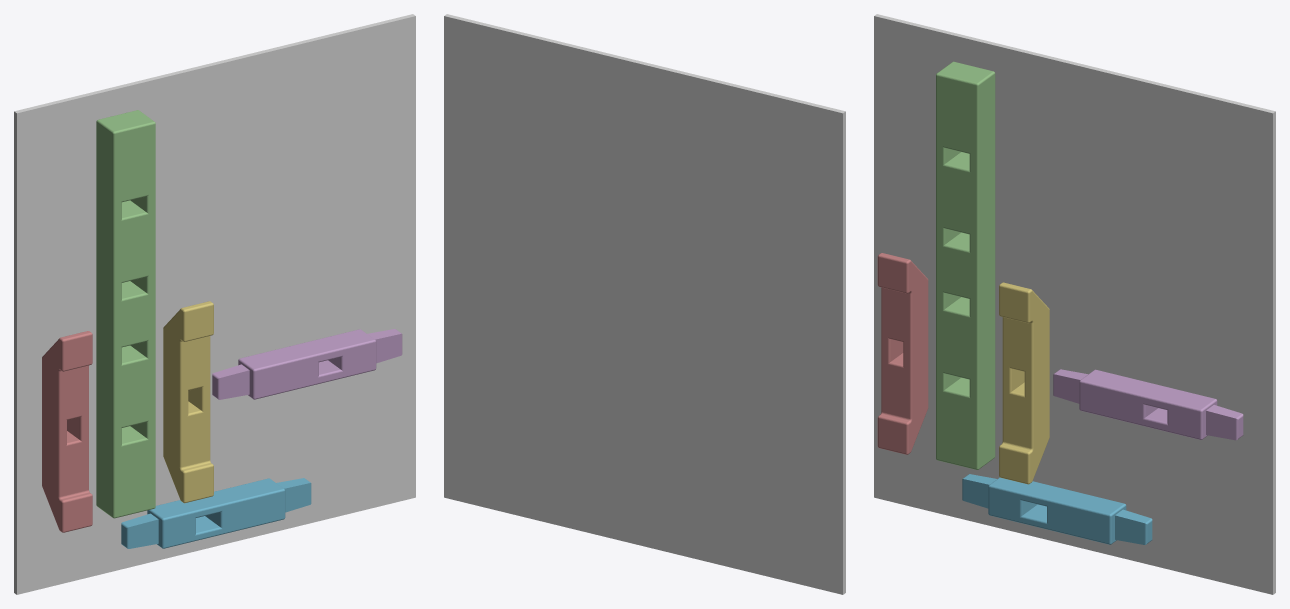
The model's file is pickup_layout.glb.
The picture shows the model from 3 angles, left to right: view 1: azimuth 30°, elevation 25°; view 2: azimuth 150°, elevation 25°; view 3: azimuth 330°, elevation 25°; orthographic projection.
Parts seen in each view (by area): view 1: world, 6.obj, 1.obj, 0.obj, 3.obj, 2.obj; view 2: world; view 3: world, 6.obj, 0.obj, 1.obj, 3.obj, 2.obj.
Part boxes in pixels (x1,y1,x2,y2): world: (14,14,415,594); 6.obj: (96,110,155,518); 1.obj: (163,301,213,503); 0.obj: (42,331,92,532); 3.obj: (212,329,402,399); 2.obj: (121,478,311,548); world: (444,14,845,594); world: (874,14,1275,594); 6.obj: (936,61,995,469); 0.obj: (877,253,928,454); 1.obj: (999,282,1049,484); 3.obj: (1053,369,1243,440); 2.obj: (962,474,1152,544).
Bounding box in the file's own units: 16.44 × 18.97 × 1.72.
